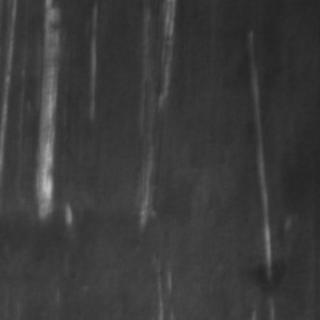scratches: (26, 0, 74, 228), (134, 1, 174, 236), (248, 48, 276, 286)
